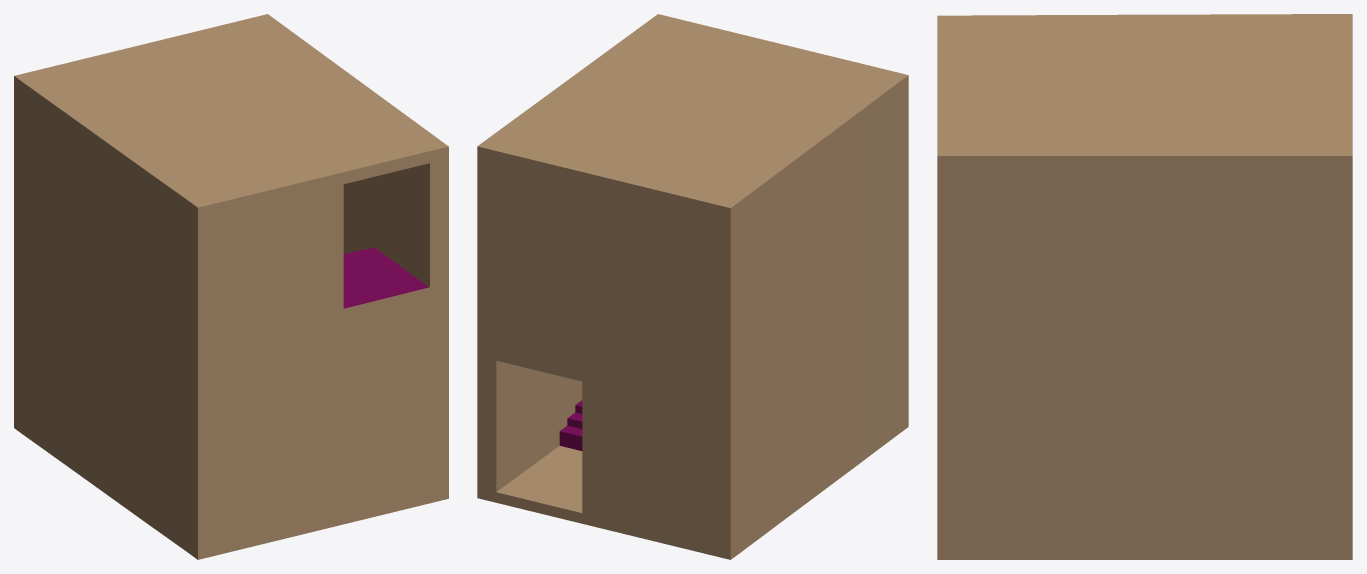
Rendered from Staircase.fbx.
3 renders of one model, left to right at view 1: azimuth 30°, elevation 25°; view 2: azimuth 150°, elevation 25°; view 3: azimuth 270°, elevation 25°, orthographic. The views are drawn at different scales.
Parts seen in each view (by area): view 1: BoxWall, Staircase; view 2: BoxWall, Staircase; view 3: BoxWall.
Part boxes in pixels (x1,y1,x2,y2): BoxWall: (14,14,448,559); Staircase: (343,247,428,308); BoxWall: (477,14,908,559); Staircase: (559,400,582,450); BoxWall: (937,14,1352,559).
Bounding box in the file's own units: 469 × 622 × 580.
